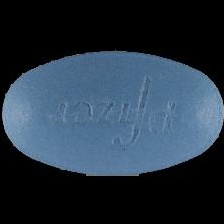59762-6733: (0, 0, 224, 224)
